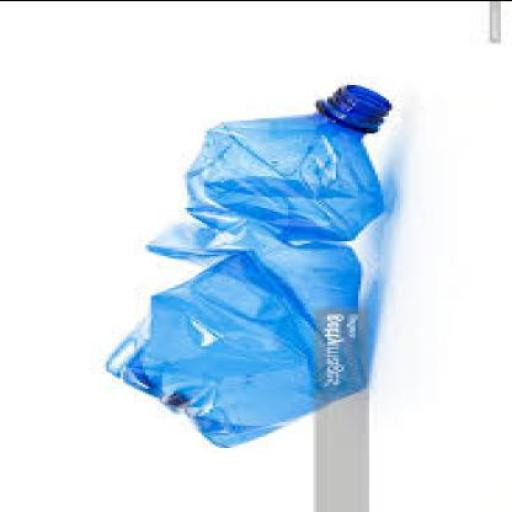plastic: (104, 82, 392, 445)
